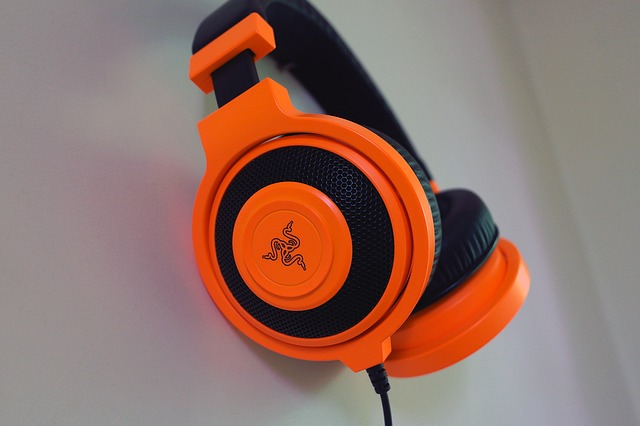headphones: (189, 1, 530, 379)
